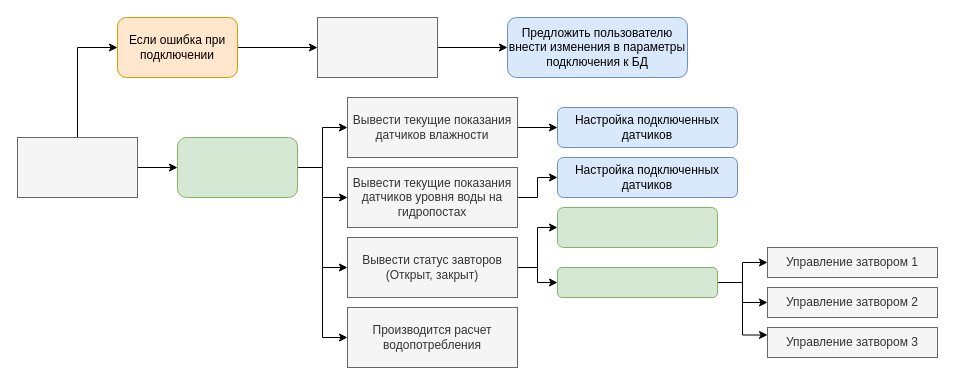
The diagram is 955 pixels wide and 385 high, and some of its shapes have lost their labels. Each missing label, with the centre of its shape:
Автоматическое управление затворами: point 637,227
Вывести сообщение об ошибки: point 377,47
Подключение к БД: point 77,167
При успешном подключении к БД: point 237,167
Ручное управление затворами: point 637,282
